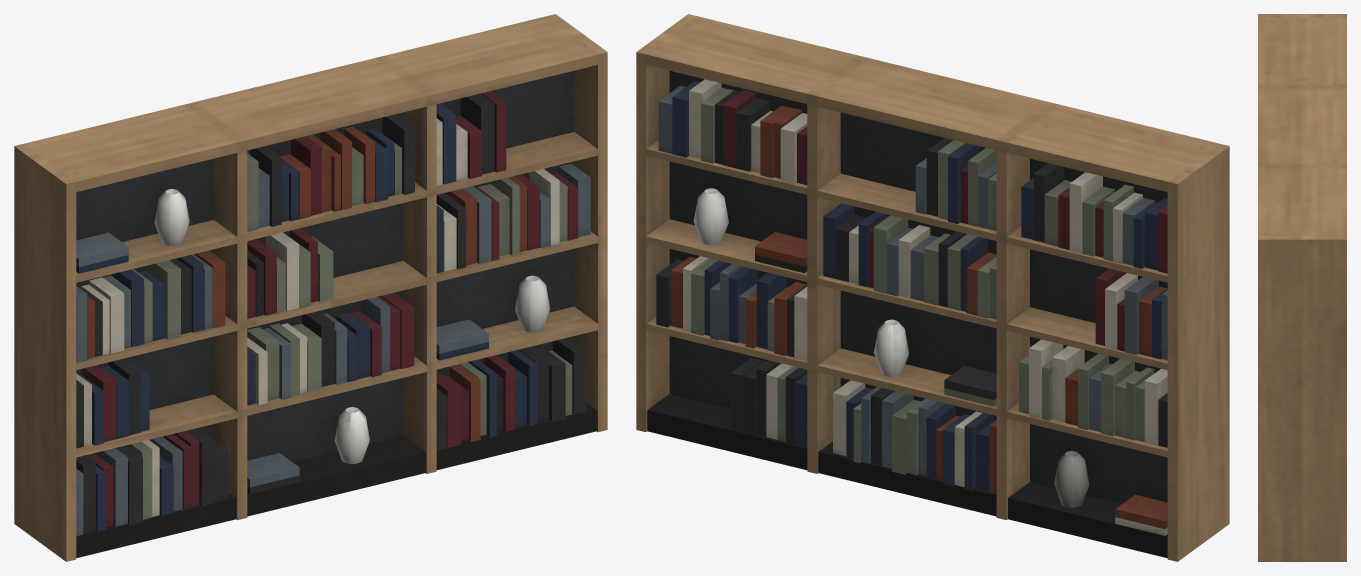
Rendered from H_ShelfWall.fbx.
3 renders of one model, left to right at view 1: azimuth 30°, elevation 25°; view 2: azimuth 150°, elevation 25°; view 3: azimuth 270°, elevation 25°, orthographic. The views are drawn at different scales.
Parts seen in each view (by area): view 1: H_ShelfWall; view 2: H_ShelfWall; view 3: H_ShelfWall.
Part boxes in pixels (left/top/right/bottom): H_ShelfWall: left=14, top=14, right=607, bottom=561; H_ShelfWall: left=636, top=14, right=1229, bottom=561; H_ShelfWall: left=1258, top=14, right=1346, bottom=561.
Bounding box in the file's own units: 1200 × 800 × 200.
1 material, 1 textured.
